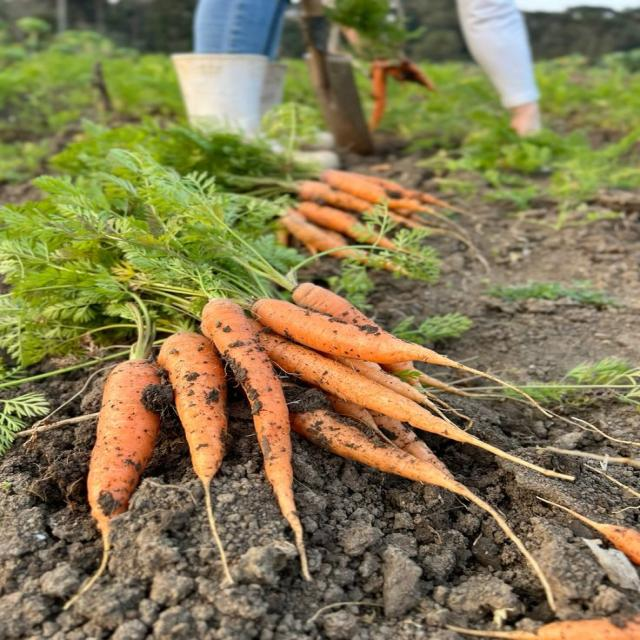carrot: (292, 403, 554, 608), (259, 330, 573, 479), (253, 299, 548, 414), (202, 300, 310, 579), (64, 359, 160, 609), (158, 333, 233, 583), (322, 170, 477, 253), (328, 355, 448, 420), (281, 213, 405, 273), (539, 497, 639, 564), (322, 170, 450, 221), (371, 412, 453, 477), (329, 355, 431, 405), (297, 202, 398, 250), (447, 616, 639, 639), (356, 174, 464, 213), (281, 214, 367, 261), (293, 283, 378, 326), (324, 393, 393, 444), (293, 283, 375, 324), (382, 361, 472, 396), (297, 181, 373, 212), (326, 393, 377, 431), (369, 61, 386, 131)
